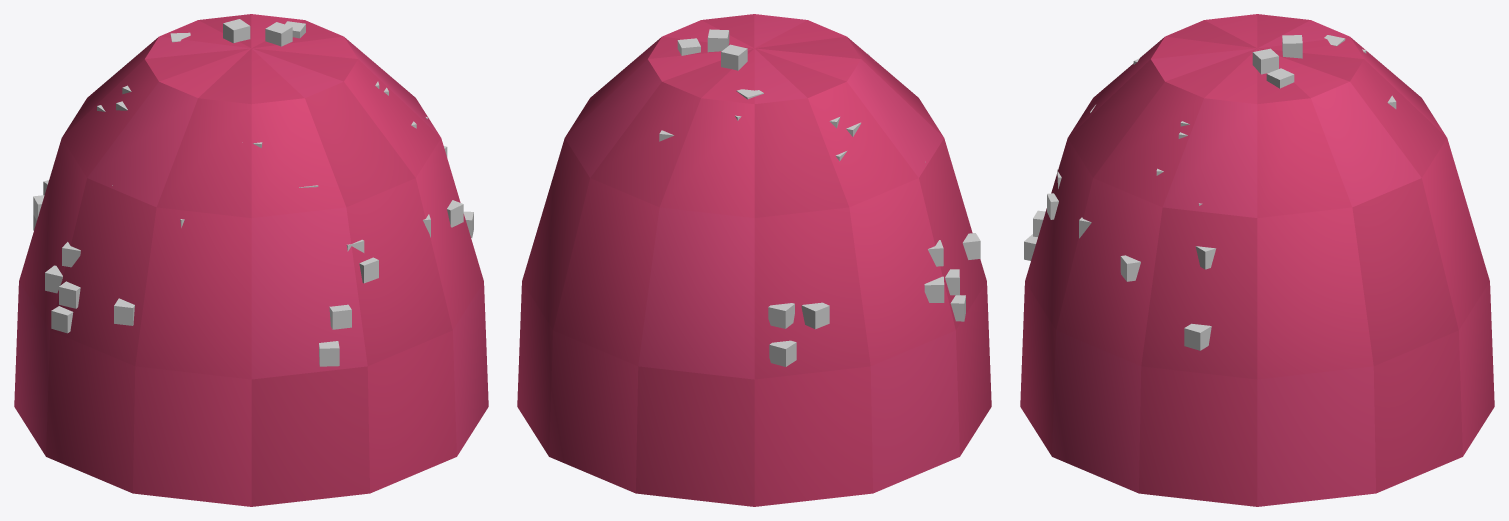
File: gumdrop_a.glb
3 views of the same model, side by side, from view 1: azimuth 30°, elevation 25°; view 2: azimuth 150°, elevation 25°; view 3: azimuth 270°, elevation 25° (orthographic).
Visible parts, largest first — view 1: gumdrop_a; view 2: gumdrop_a; view 3: gumdrop_a.
Boxes of the visible parts, left/top/right/bottom form: gumdrop_a: left=14, top=14, right=488, bottom=506; gumdrop_a: left=517, top=14, right=991, bottom=506; gumdrop_a: left=1020, top=14, right=1494, bottom=506.
Bounding box in the file's own units: 0.84 × 0.7201 × 0.84.
